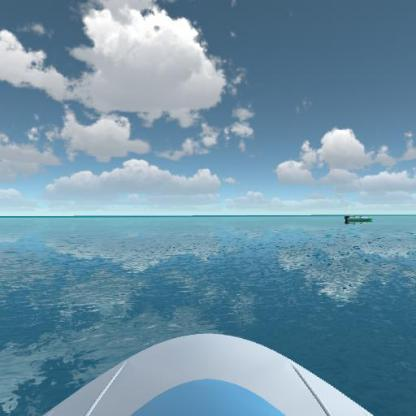usv0: (343, 212, 374, 225)
